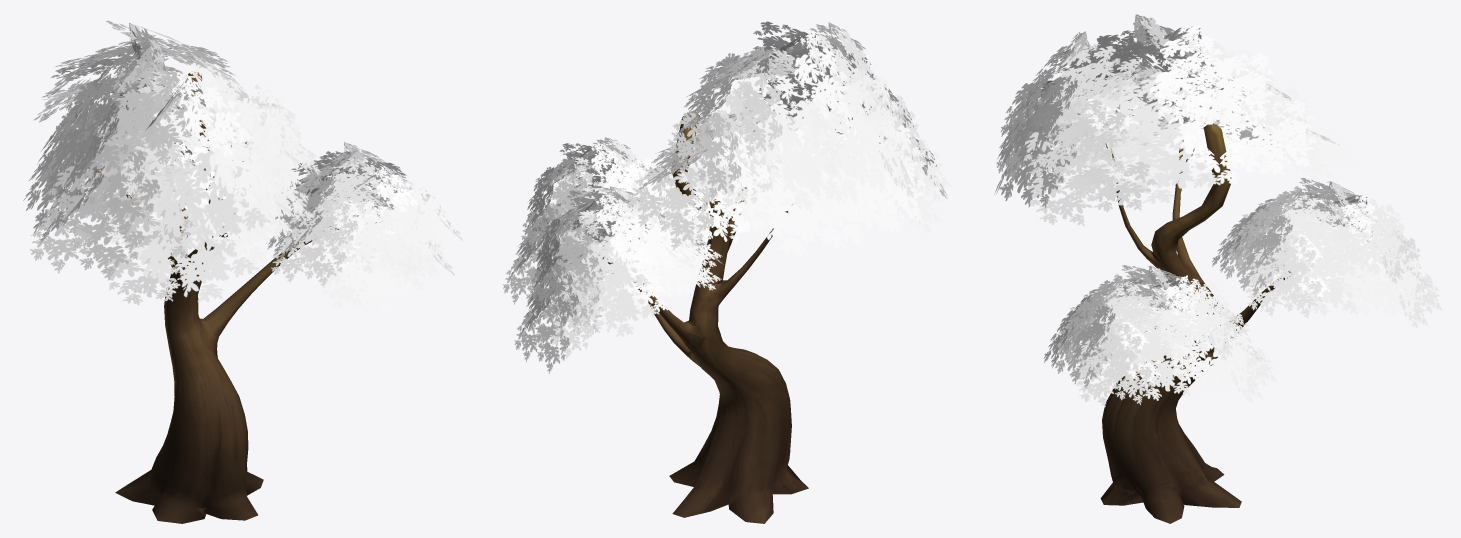
The model's file is swamp tree.glb.
The picture shows the model from 3 angles, left to right: view 1: azimuth 30°, elevation 25°; view 2: azimuth 150°, elevation 25°; view 3: azimuth 270°, elevation 25°; orthographic projection. The views are drawn at different scales.
Parts seen in each view (by area): view 1: Plane.001, Plane.003, LP.001, Plane.004; view 2: Plane.001, Plane.004, LP.001, Plane.003; view 3: Plane.001, Plane.004, Plane.003, LP.001.
Part boxes in pixels (x1,y1,x2,y2): Plane.001: [23, 20, 320, 305]; Plane.003: [266, 142, 462, 312]; LP.001: [88, 71, 381, 523]; Plane.004: [80, 66, 255, 217]; Plane.001: [627, 21, 950, 257]; Plane.004: [514, 186, 723, 373]; LP.001: [598, 107, 808, 523]; Plane.003: [503, 137, 706, 310]; Plane.001: [994, 14, 1358, 226]; Plane.004: [1212, 178, 1442, 328]; Plane.003: [1043, 265, 1277, 406]; LP.001: [1100, 116, 1291, 523].
Size of the model in its own units: 10.56 by 11.53 by 10.67.
2 materials, 2 textured.
